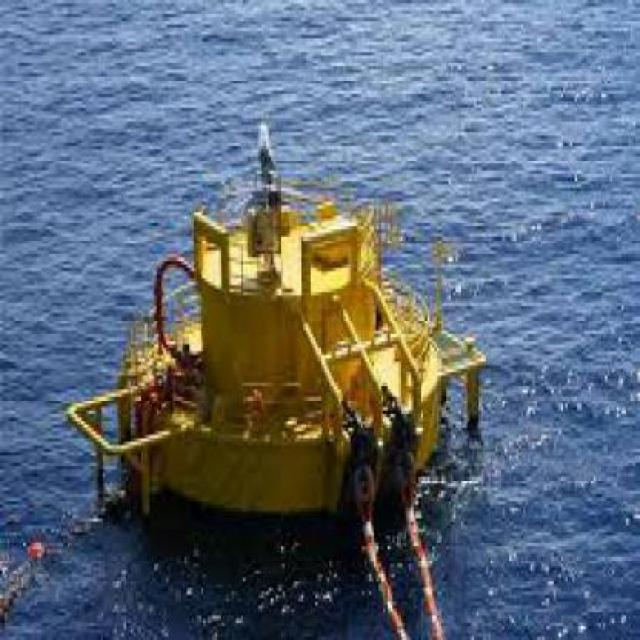buoy: (55, 109, 501, 569)
